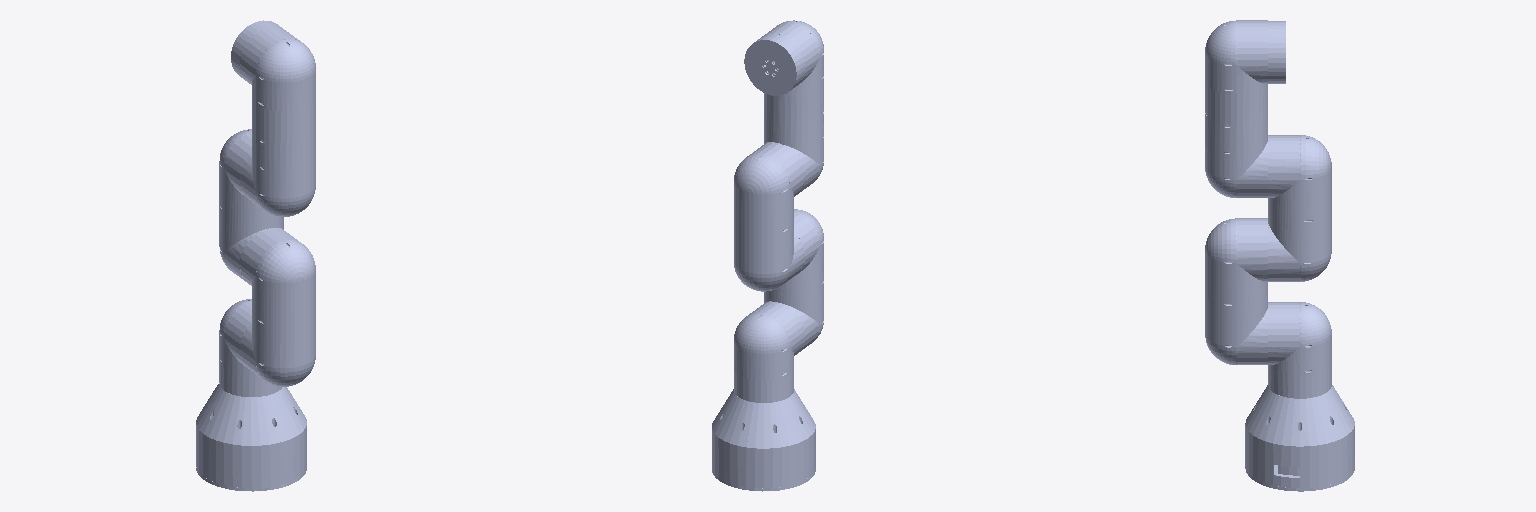
The robot description file, URDF, robot "ikfk":
<?xml version="1.0" encoding="utf-8" ?>
<!-- This URDF was automatically created by SolidWorks to URDF Exporter! Originally created by [author] ([email redacted]) 
     Commit Version: 1.5.1-0-g916b5db  Build Version: 1.5.7152.31018
     For more information, please see http://wiki.ros.org/sw_urdf_exporter -->
<robot name="ikfk">
    <link name="l1">
        <!-- <inertial>
      <origin
        xyz="0.00787454762328085 -0.188640619311168 -0.0276009029140025"
        rpy="0 0 0" />
      <mass
        value="2.11796423106399" />
      <inertia
        ixx="0.00764290450449898"
        ixy="-5.63635530738287E-05"
        ixz="-1.31983357834111E-05"
        iyy="0.00767254214529852"
        iyz="-6.42605384538E-06"
        izz="0.0115497400756271" />
    </inertial> -->
        <visual>
            <origin xyz="0 0 0" rpy="0 0 0" />
            <geometry>
                <mesh filename="package://ikfk/meshes/l1.STL" />
            </geometry>
            <material name="">
                <color rgba="0.792156862745098 0.819607843137255 0.933333333333333 1" />
            </material>
        </visual>
        <collision>
            <origin xyz="0 0 0" rpy="0 0 0" />
            <geometry>
                <mesh filename="package://ikfk/meshes/l1.STL" />
            </geometry>
        </collision>
        <inertial>
            <mass value="0.1" />
            <origin xyz="0 0 0" rpy="0 0 0" />
            <inertia ixx="0.03" iyy="0.03" izz="0.03" ixy="0.0" ixz="0.0" iyz="0.0" />
        </inertial>
    </link>
    <link name="l2">
        <inertial>
            <origin xyz="3.80459346251416E-05 0.00172816828342298 -0.0614176687071702" rpy="0 0 0" />
            <mass value="0.347127023267661" />
            <inertia ixx="0.0010631192190086" ixy="6.15593279798226E-06" ixz="0.000161124006894344" iyy="0.000931431429298643" iyz="-1.83909348020823E-05" izz="0.00072003854037119" />
        </inertial>
        <visual>
            <origin xyz="0 0 0" rpy="0 0 0" />
            <geometry>
                <mesh filename="package://ikfk/meshes/l2.STL" />
            </geometry>
            <material name="">
                <color rgba="0.792156862745098 0.819607843137255 0.933333333333333 1" />
            </material>
        </visual>
        <collision>
            <origin xyz="0 0 0" rpy="0 0 0" />
            <geometry>
                <mesh filename="package://ikfk/meshes/l2.STL" />
            </geometry>
        </collision>
    </link>
    <joint name="j2" type="revolute">
        <origin xyz="0.0093465 -0.19 0.076805" rpy="3.1416 0 -1.5708" />
        <parent link="l1" />
        <child link="l2" />
        <axis xyz="0 0 1" />
        <limit lower="-3.14" upper="3.14" effort="0" velocity="0" />
    </joint>
    <link name="l3">
        <inertial>
            <origin xyz="1.37195912323917E-06 0.0646794629105503 -0.0485196106286587" rpy="0 0 0" />
            <mass value="0.583453144895476" />
            <inertia ixx="0.00328336018185868" ixy="9.68500972067701E-09" ixz="-5.28773122862605E-09" iyy="0.000909190266083572" iyz="-2.81677088089766E-05" izz="0.00389999556317457" />
        </inertial>
        <visual>
            <origin xyz="0 0 0" rpy="0 0 0" />
            <geometry>
                <mesh filename="package://ikfk/meshes/l3.STL" />
            </geometry>
            <material name="">
                <color rgba="0.792156862745098 0.819607843137255 0.933333333333333 1" />
            </material>
        </visual>
        <collision>
            <origin xyz="0 0 0" rpy="0 0 0" />
            <geometry>
                <mesh filename="package://ikfk/meshes/l3.STL" />
            </geometry>
        </collision>
    </link>
    <joint name="j3" type="revolute">
        <origin xyz="0.054992 0 -0.099" rpy="-1.5708 0 1.5708" />
        <parent link="l2" />
        <child link="l3" />
        <axis xyz="0 0 1" />
        <limit lower="-3.14" upper="3.14" effort="0" velocity="0" />
    </joint>
    <link name="l4">
        <inertial>
            <origin xyz="0.000123532810478142 0.059730075861426 -0.0490246520414468" rpy="0 0 0" />
            <mass value="0.569532543154534" />
            <inertia ixx="0.00361842190269119" ixy="6.05083989004087E-06" ixz="2.09838730204066E-07" iyy="0.000902446541780071" iyz="-3.15103807275629E-05" izz="0.00423020835537969" />
        </inertial>
        <visual>
            <origin xyz="0 0 0" rpy="0 0 0" />
            <geometry>
                <mesh filename="package://ikfk/meshes/l4.STL" />
            </geometry>
            <material name="">
                <color rgba="0.792156862745098 0.819607843137255 0.933333333333333 1" />
            </material>
        </visual>
        <collision>
            <origin xyz="0 0 0" rpy="0 0 0" />
            <geometry>
                <mesh filename="package://ikfk/meshes/l4.STL" />
            </geometry>
        </collision>
    </link>
    <joint name="j4" type="revolute">
        <origin xyz="0 0.16 0" rpy="3.1416 0 -3.1416" />
        <parent link="l3" />
        <child link="l4" />
        <axis xyz="0 0 1" />
        <limit lower="-3.14" upper="3.14" effort="0" velocity="0" />
    </joint>
    <link name="l5">
        <inertial>
            <origin xyz="-0.0455868193439153 3.28775120669866E-08 -0.0232451647106656" rpy="0 0 0" />
            <mass value="0.439375654076011" />
            <inertia ixx="0.00164430181444721" ixy="-4.83318110242674E-10" ixz="-8.15513652380298E-05" iyy="0.00125393176666983" iyz="3.71418147083124E-10" izz="0.000702329493050405" />
        </inertial>
        <visual>
            <origin xyz="0 0 0" rpy="0 0 0" />
            <geometry>
                <mesh filename="package://ikfk/meshes/l5.STL" />
            </geometry>
            <material name="">
                <color rgba="0.792156862745098 0.819607843137255 0.933333333333333 1" />
            </material>
        </visual>
        <collision>
            <origin xyz="0 0 0" rpy="0 0 0" />
            <geometry>
                <mesh filename="package://ikfk/meshes/l5.STL" />
            </geometry>
        </collision>
    </link>
    <joint name="j5" type="revolute">
        <origin xyz="0 0.16 0" rpy="1.5708 1.5708 0" />
        <parent link="l4" />
        <child link="l5" />
        <axis xyz="1 0 0" />
        <limit lower="-3.14" upper="3.14" effort="0" velocity="0" />
    </joint>
    <link name="l6">
        <inertial>
            <origin xyz="0.00148871261288458 0.00029573531886019 -0.0628228486462078" rpy="0 0 0" />
            <mass value="0.334585426652201" />
            <inertia ixx="0.00106191583037582" ixy="-7.80849925393899E-07" ixz="0.000141944739515501" iyy="0.000890956181395683" iyz="-3.45067831895538E-06" izz="0.000695963723394054" />
        </inertial>
        <visual>
            <origin xyz="0 0 0" rpy="0 0 0" />
            <geometry>
                <mesh filename="package://ikfk/meshes/l6.STL" />
            </geometry>
            <material name="">
                <color rgba="0.792156862745098 0.819607843137255 0.933333333333333 1" />
            </material>
        </visual>
        <collision>
            <origin xyz="0 0 0" rpy="0 0 0" />
            <geometry>
                <mesh filename="package://ikfk/meshes/l6.STL" />
            </geometry>
        </collision>
    </link>
    <joint name="j6" type="revolute">
        <origin xyz="-0.055008 0 -0.12" rpy="0 0 0" />
        <parent link="l5" />
        <child link="l6" />
        <axis xyz="0 0 1" />
        <limit lower="-3.14" upper="3.14" effort="0" velocity="0" />
    </joint>
    <link name="end_link">
        <inertial>
            <origin xyz="0 -5.20417042793042E-18 0.0169609937058888" rpy="0 0 0" />
            <mass value="0.155292459158679" />
            <inertia ixx="0.000181315026178621" ixy="-3.08799285804403E-21" ixz="-1.0675067942841E-20" iyy="0.000181315026178621" iyz="-1.51710728690118E-20" izz="0.000334796454737857" />
        </inertial>
        <visual>
            <origin xyz="0 0 0" rpy="0 0 0" />
            <geometry>
                <mesh filename="package://ikfk/meshes/end_link.STL" />
            </geometry>
            <material name="">
                <color rgba="0.792156862745098 0.819607843137255 0.933333333333333 1" />
            </material>
        </visual>
        <collision>
            <origin xyz="0 0 0" rpy="0 0 0" />
            <geometry>
                <mesh filename="package://ikfk/meshes/end_link.STL" />
            </geometry>
        </collision>
    </link>
    <joint name="end_joint" type="revolute">
        <origin xyz="0.055 0 -0.099" rpy="0 1.5708 0" />
        <parent link="l6" />
        <child link="end_link" />
        <axis xyz="0 0 1" />
        <limit lower="-3.14" upper="3.14" effort="0" velocity="0" />
    </joint>
    <transmission name="trans_j2">
        <type>transmission_interface/SimpleTransmission</type>
        <joint name="j2">
            <hardwareInterface>hardware_interface/EffortJointInterface</hardwareInterface>
        </joint>
        <actuator name="j2_motor">
            <hardwareInterface>hardware_interface/EffortJointInterface</hardwareInterface>
            <mechanicalReduction>1</mechanicalReduction>
        </actuator>
    </transmission>
    <transmission name="trans_j3">
        <type>transmission_interface/SimpleTransmission</type>
        <joint name="j3">
            <hardwareInterface>hardware_interface/EffortJointInterface</hardwareInterface>
        </joint>
        <actuator name="j3_motor">
            <hardwareInterface>hardware_interface/EffortJointInterface</hardwareInterface>
            <mechanicalReduction>1</mechanicalReduction>
        </actuator>
    </transmission>
    <transmission name="trans_j4">
        <type>transmission_interface/SimpleTransmission</type>
        <joint name="j4">
            <hardwareInterface>hardware_interface/EffortJointInterface</hardwareInterface>
        </joint>
        <actuator name="j4_motor">
            <hardwareInterface>hardware_interface/EffortJointInterface</hardwareInterface>
            <mechanicalReduction>1</mechanicalReduction>
        </actuator>
    </transmission>
    <transmission name="trans_j5">
        <type>transmission_interface/SimpleTransmission</type>
        <joint name="j5">
            <hardwareInterface>hardware_interface/EffortJointInterface</hardwareInterface>
        </joint>
        <actuator name="j5_motor">
            <hardwareInterface>hardware_interface/EffortJointInterface</hardwareInterface>
            <mechanicalReduction>1</mechanicalReduction>
        </actuator>
    </transmission>
    <transmission name="trans_j6">
        <type>transmission_interface/SimpleTransmission</type>
        <joint name="j6">
            <hardwareInterface>hardware_interface/EffortJointInterface</hardwareInterface>
        </joint>
        <actuator name="j6_motor">
            <hardwareInterface>hardware_interface/EffortJointInterface</hardwareInterface>
            <mechanicalReduction>1</mechanicalReduction>
        </actuator>
    </transmission>
    <transmission name="trans_end_joint">
        <type>transmission_interface/SimpleTransmission</type>
        <joint name="end_joint">
            <hardwareInterface>hardware_interface/EffortJointInterface</hardwareInterface>
        </joint>
        <actuator name="end_joint_motor">
            <hardwareInterface>hardware_interface/EffortJointInterface</hardwareInterface>
            <mechanicalReduction>1</mechanicalReduction>
        </actuator>
    </transmission>
    <gazebo>
        <plugin name="gazebo_ros_control">
            <robotNamespace>/</robotNamespace>
        </plugin>
    </gazebo>
</robot>

--- Render facts (derived) ---
Views: 3 orthographic renders of the robot side by side, from view 1: azimuth 30°, elevation 25°; view 2: azimuth 150°, elevation 25°; view 3: azimuth 270°, elevation 25°.
Robot: ikfk — 7 links, 6 joints (6 revolute); root link l1; default pose: all joints at 0.
Links seen in each view (by area): view 1: l3, l1, l6, l5, l4, l2, end_link; view 2: l4, l1, l2, l3, l5, l6, end_link; view 3: l1, l4, l3, l2, l6, l5, end_link.
Boxes of the visible links, x1,y1,x2,y2 form: l3: (240,228,315,386); l1: (196,383,306,491); l6: (240,27,315,134); l5: (240,123,315,216); l4: (219,129,283,281); l2: (219,299,281,396); end_link: (231,20,282,80); l4: (734,143,804,291); l1: (712,389,815,491); l2: (734,302,804,402); l3: (761,209,823,351); l5: (764,102,823,194); l6: (762,20,823,112); end_link: (744,34,804,95); l1: (1245,385,1354,491); l4: (1268,135,1331,281); l3: (1205,218,1267,364); l2: (1268,302,1331,398); l6: (1205,20,1267,116); l5: (1205,106,1267,197); end_link: (1268,21,1285,83).
Bounding box of the posed robot: 0.19 × 0.26 × 0.852 m (x, y, z).
Meshes: 7 distinct files referenced, 7 mesh visuals loaded (7 binary STL).